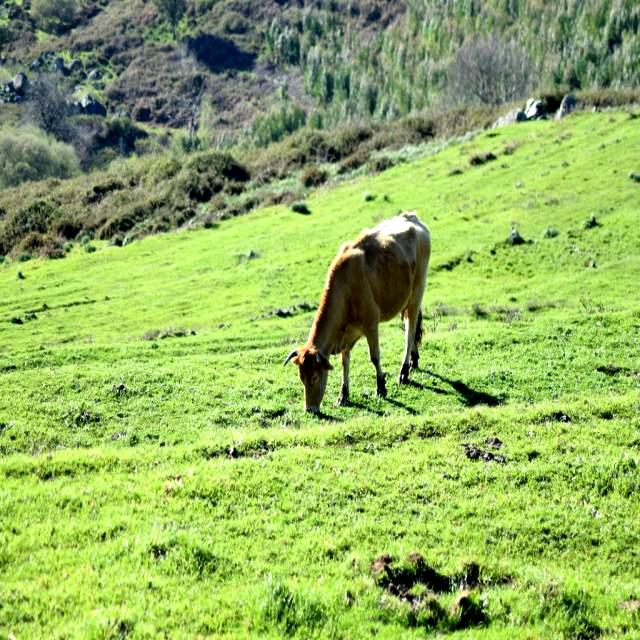COW: (285, 212, 431, 412)
